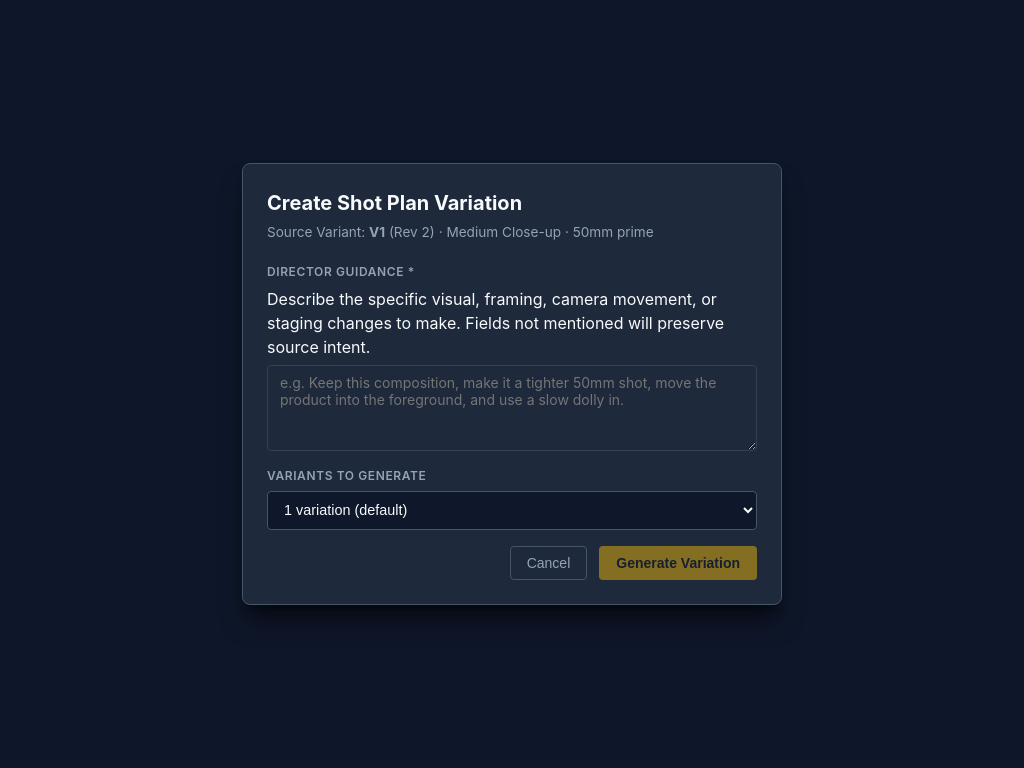
Test case: ShotPlanVariationModal › surfaces idempotency conflict error (409)
Replace the text in the text box with test id "variation-guidance-input" with "Tighter shot" at point(512, 408), box [267,365,757,451]
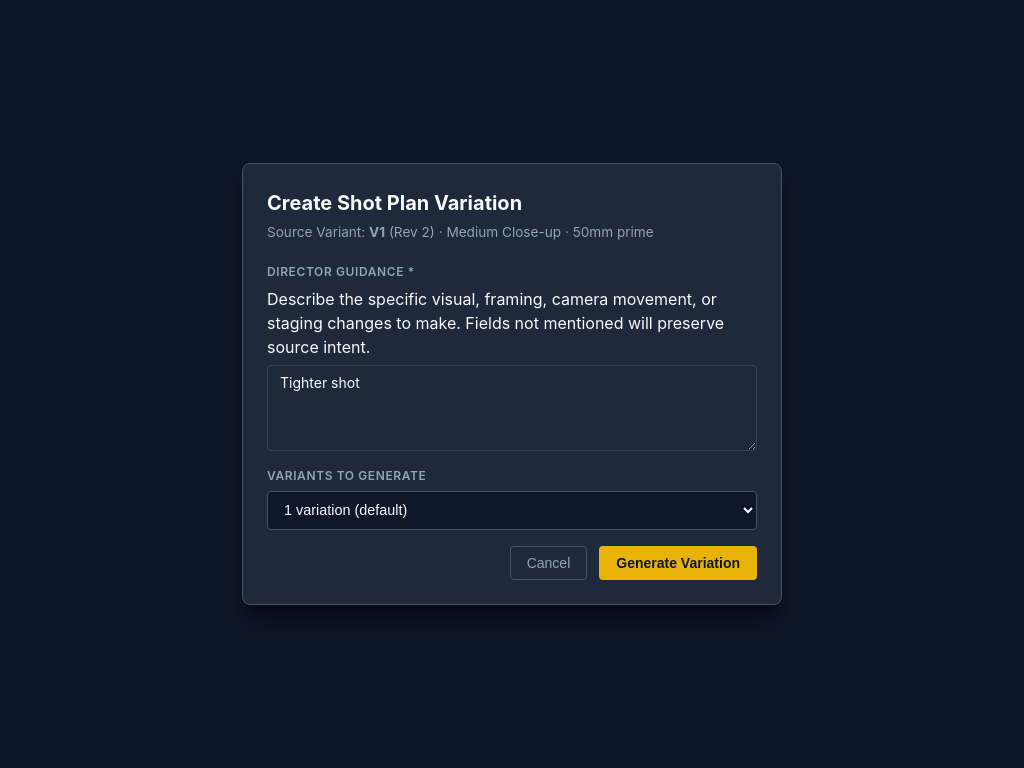
Click the button with test id "submit-variation-button" at point(678, 563), box [599,546,757,580]
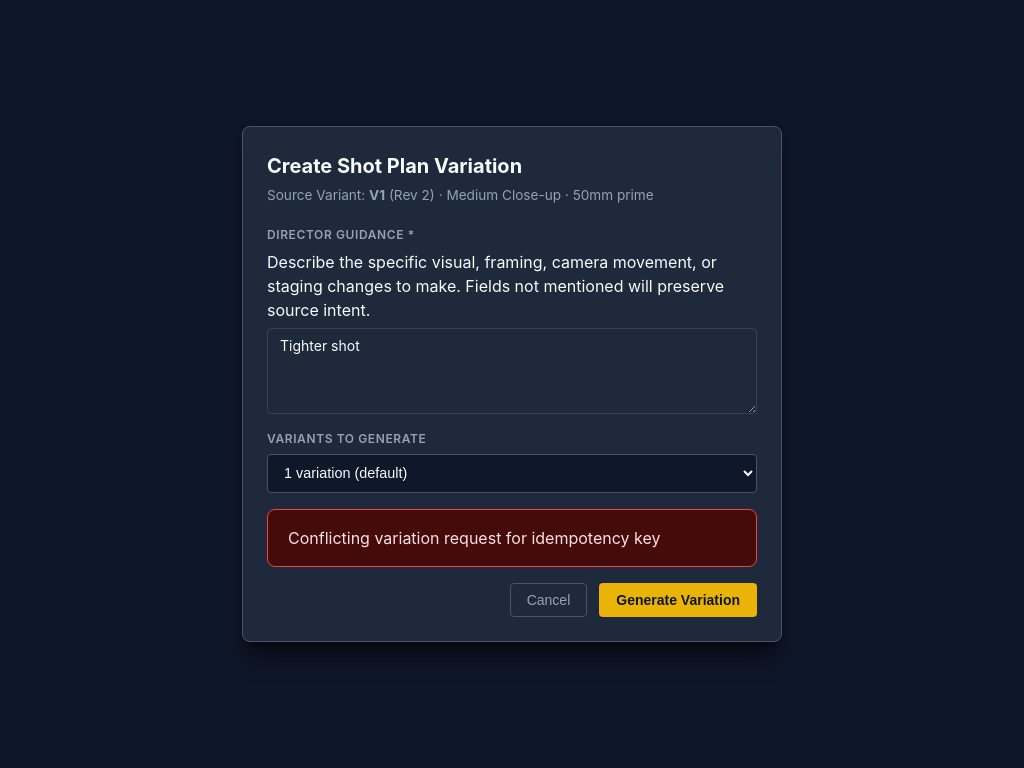
Result: the message with test id "variation-error-message" shows "Conflicting variation request" at [288,528,660,548]
